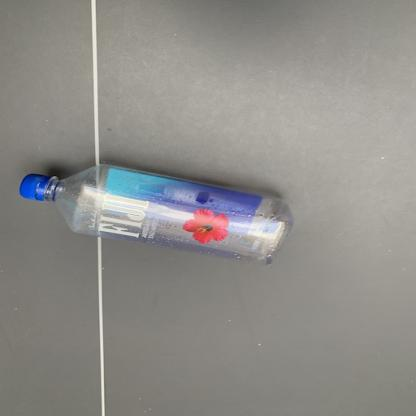trash: (19, 163, 300, 272)
